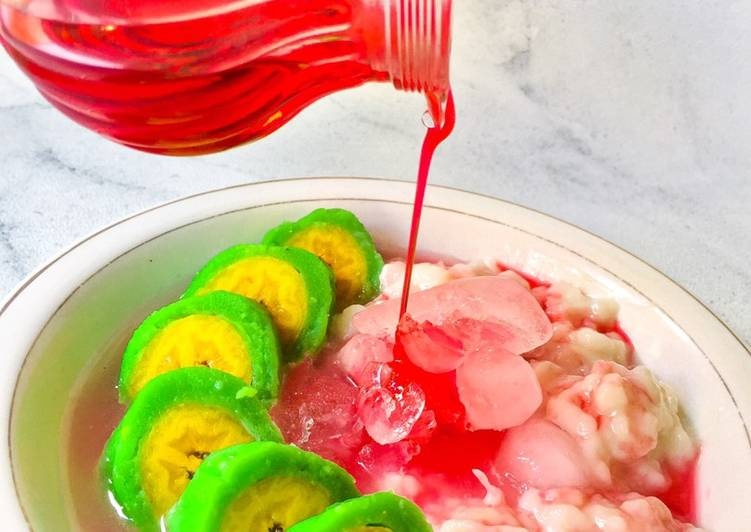es_pisang_ijo: (85, 205, 705, 532)
